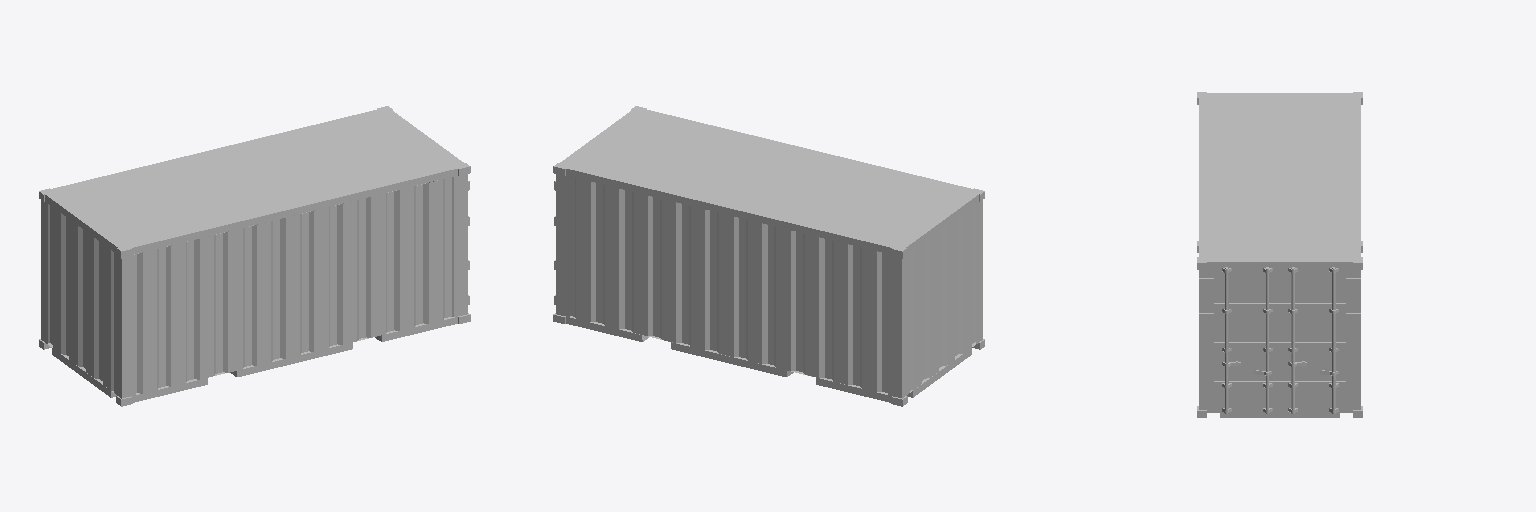
The model's file is container0.obj.
The picture shows the model from 3 angles: view 1: azimuth 30°, elevation 25°; view 2: azimuth 150°, elevation 25°; view 3: azimuth 270°, elevation 25°; orthographic projection.
Parts seen in each view (by area): view 1: 圓柱體.007; view 2: 圓柱體.007; view 3: 圓柱體.007.
Boxes of the visible parts, x1=… form: 圓柱體.007: x1=39, y1=106, x2=470, y2=406; 圓柱體.007: x1=553, y1=106, x2=984, y2=406; 圓柱體.007: x1=1197, y1=92, x2=1362, y2=417.
Bounding box in the file's own units: 6.15 × 2.59 × 2.5.